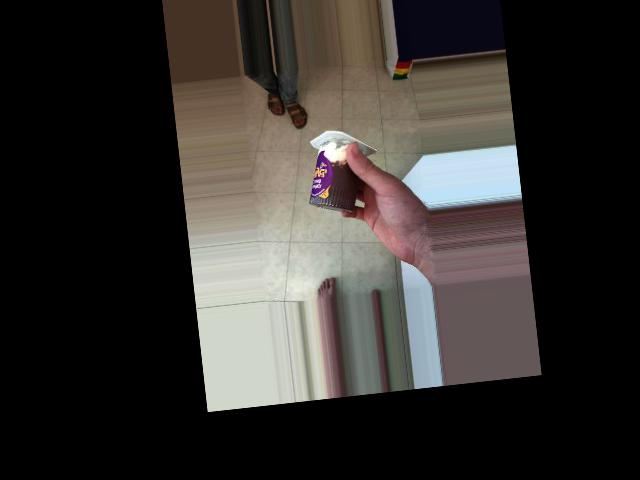milky: (303, 131, 366, 214)
